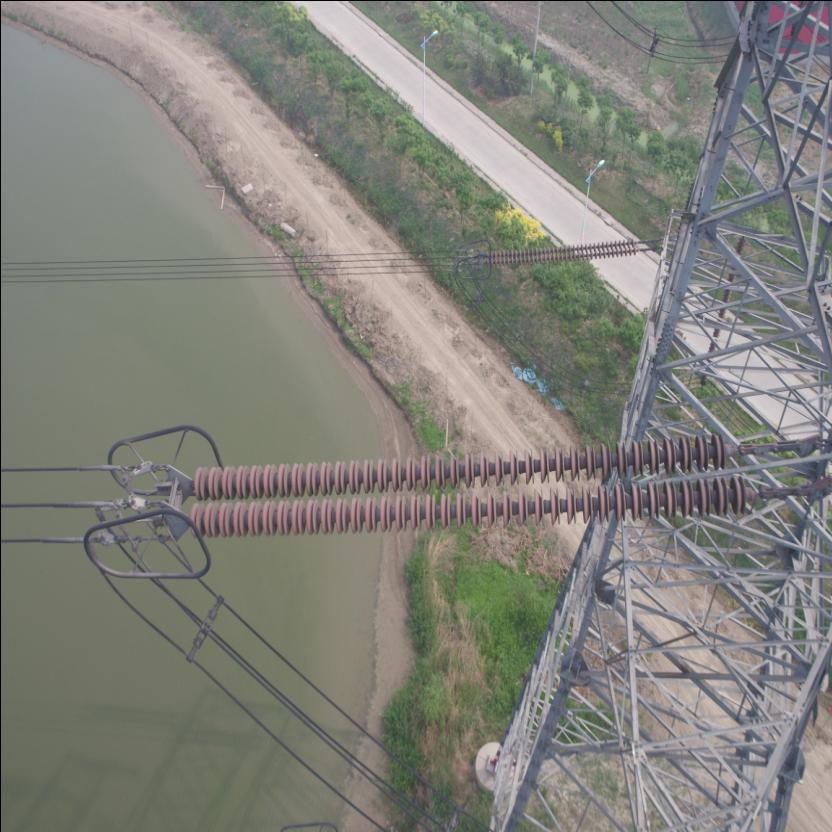insulator: (178, 429, 792, 540), (480, 235, 644, 266)
